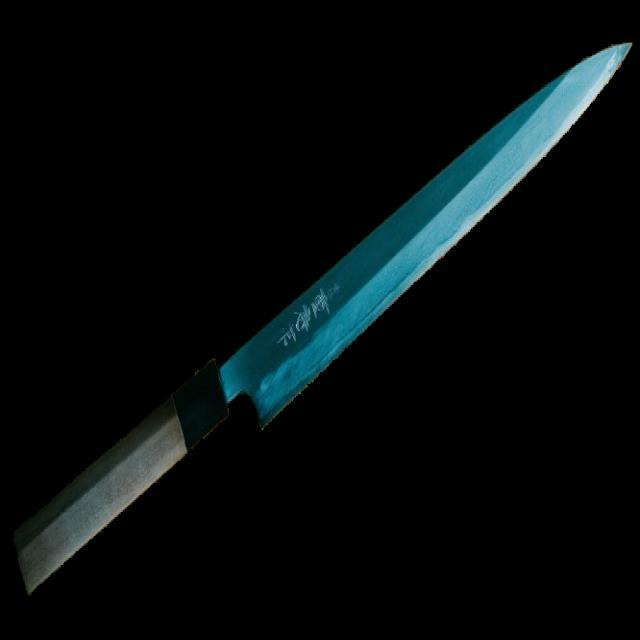knife: (16, 39, 636, 607)
